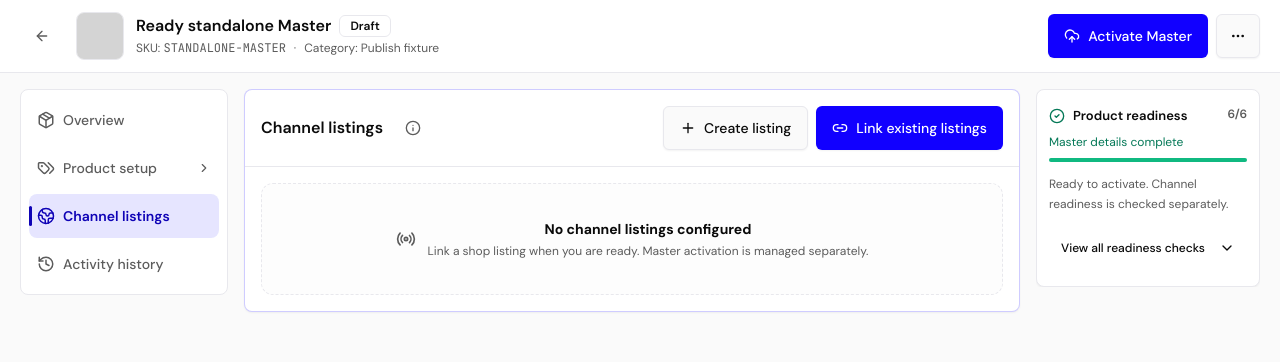
Test: Publishing Product Master without channel listings › shows unified activity history with the same readiness sidebar when readiness is complete
This screenshot has width=1280, height=362.
Click the button "Activity history": (124, 264) [29,242,219,286]
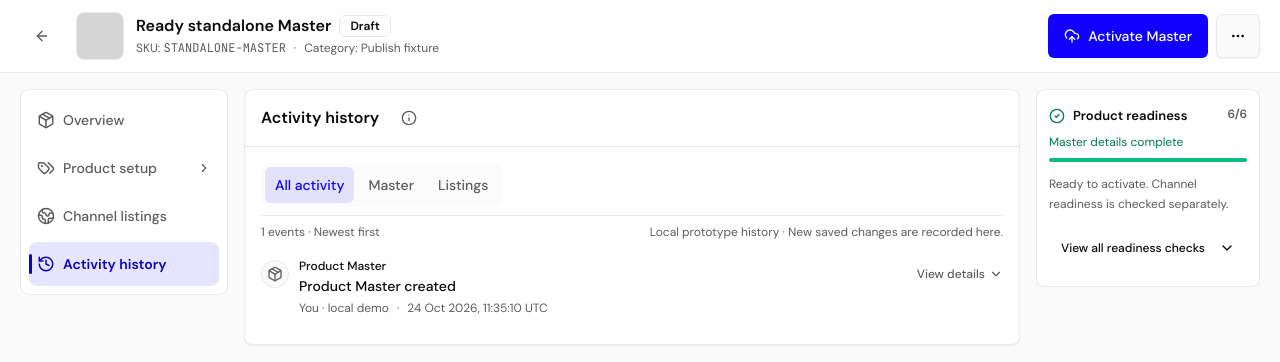
Expected: the heading "Product readiness" is shown, [1049,106,1187,126]
Now the heading "Activity history" is shown, box [261,106,379,130]
Now the element named "Activity scope" is shown, box [261,163,502,207]
